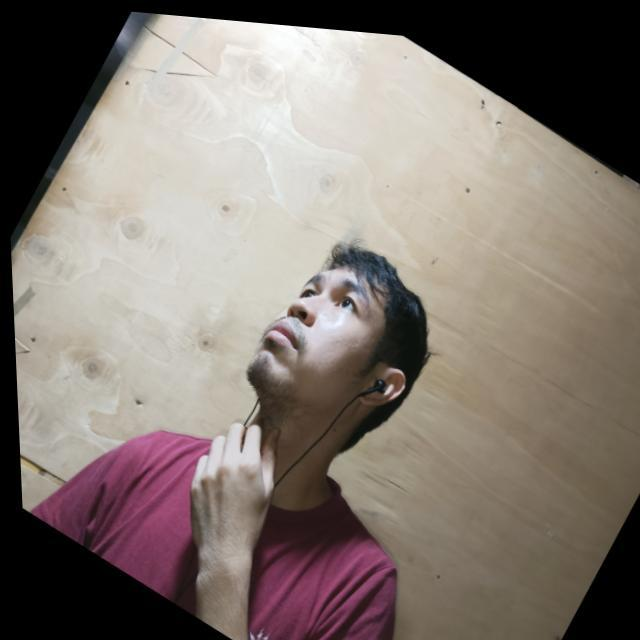Nonhelmet: (242, 238, 431, 452)
